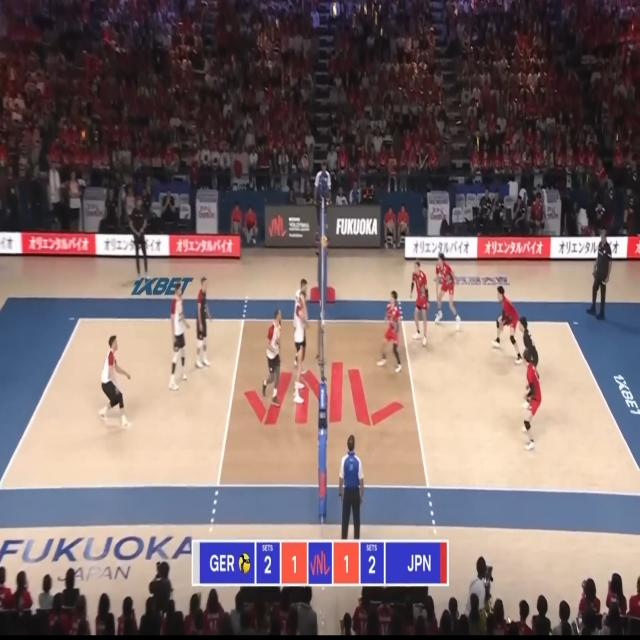ball: (321, 235, 328, 248)
